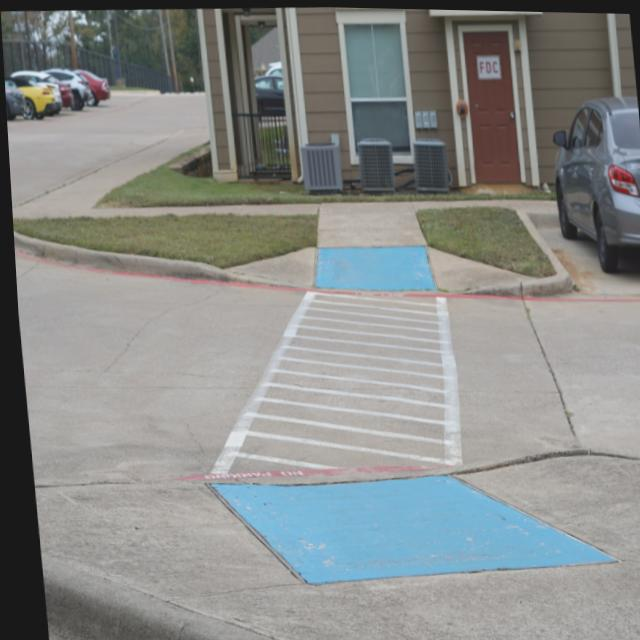Automobile: (550, 94, 640, 268), (4, 67, 110, 119), (253, 61, 284, 128)
Road: (12, 199, 640, 483), (6, 94, 203, 203)
Sidewalk: (28, 452, 640, 640), (227, 200, 542, 292), (10, 126, 317, 218)
